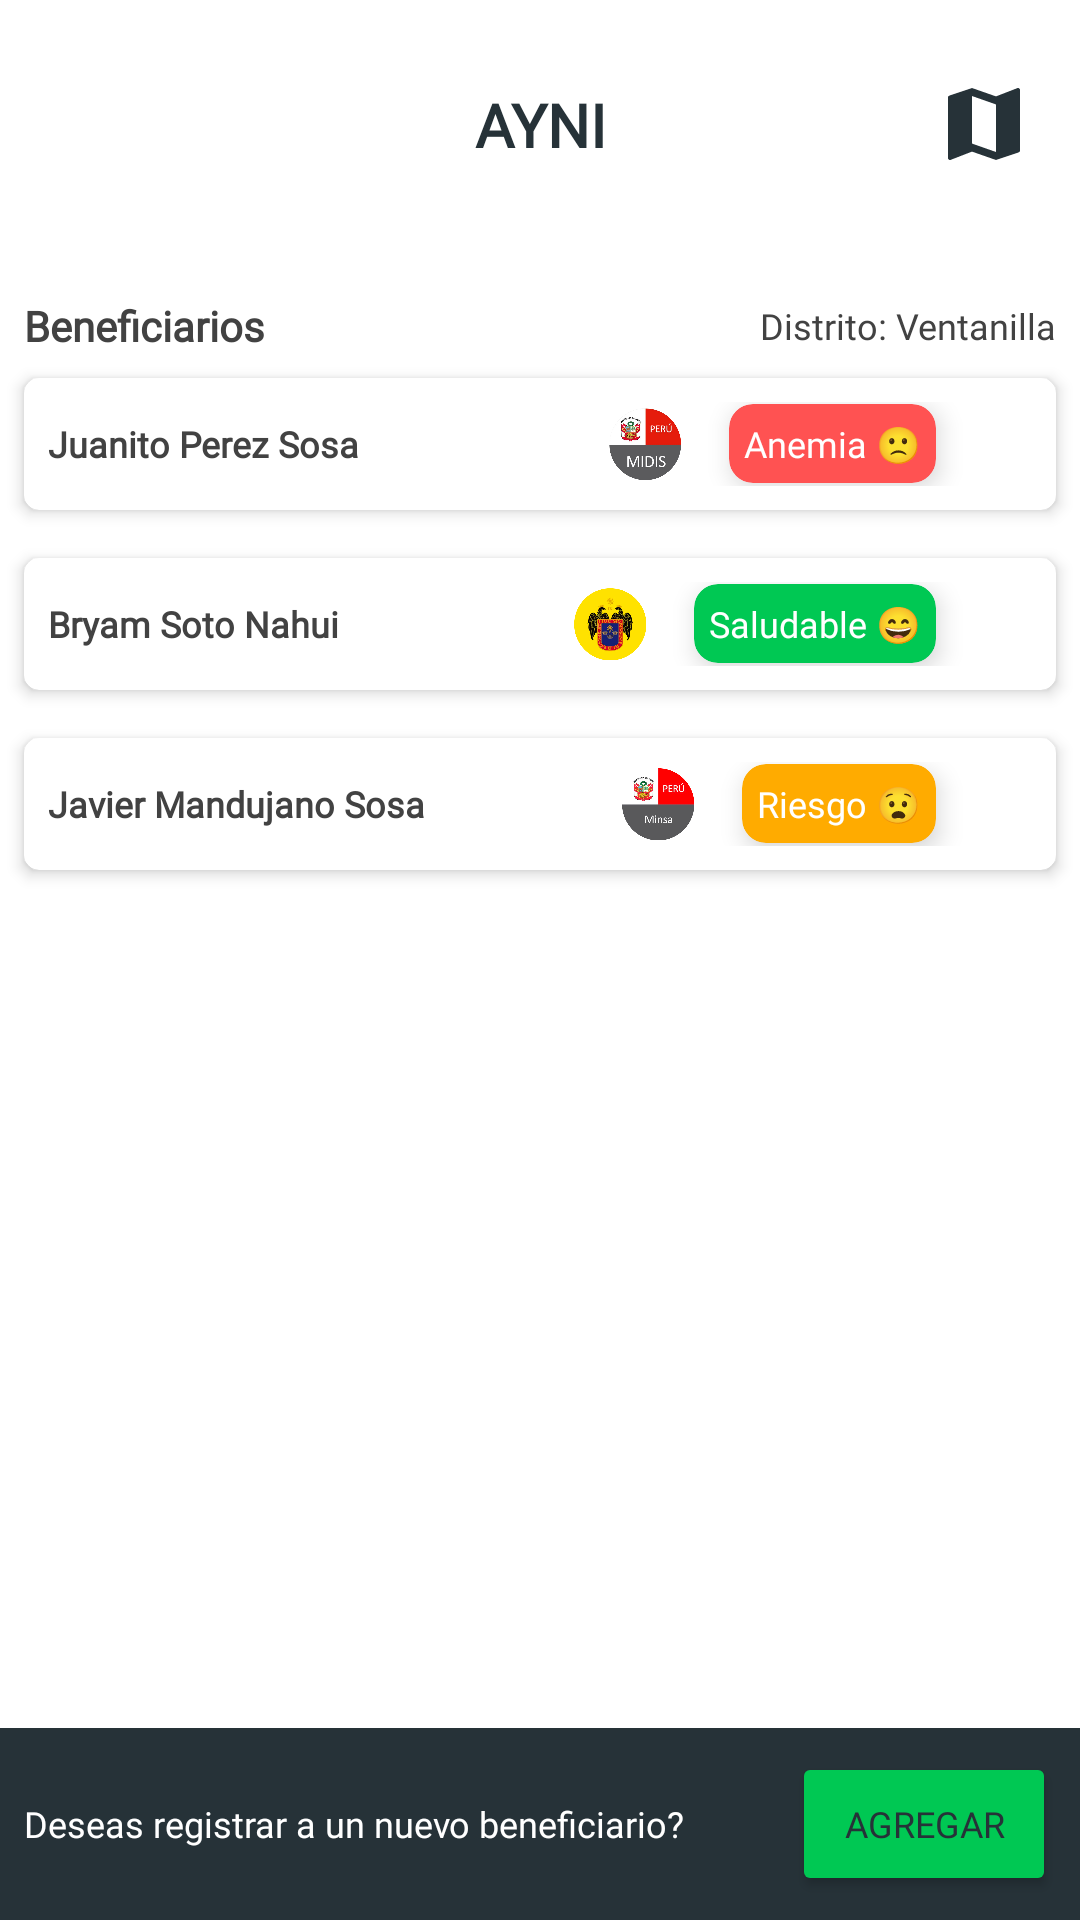

Icons on this 1080 x 1920 Android screen, each with the point to tap as [x,y]:
map: [984,124]
